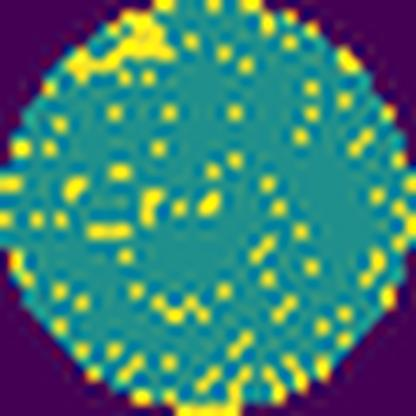Edge-Loc: (57, 7, 181, 82)
